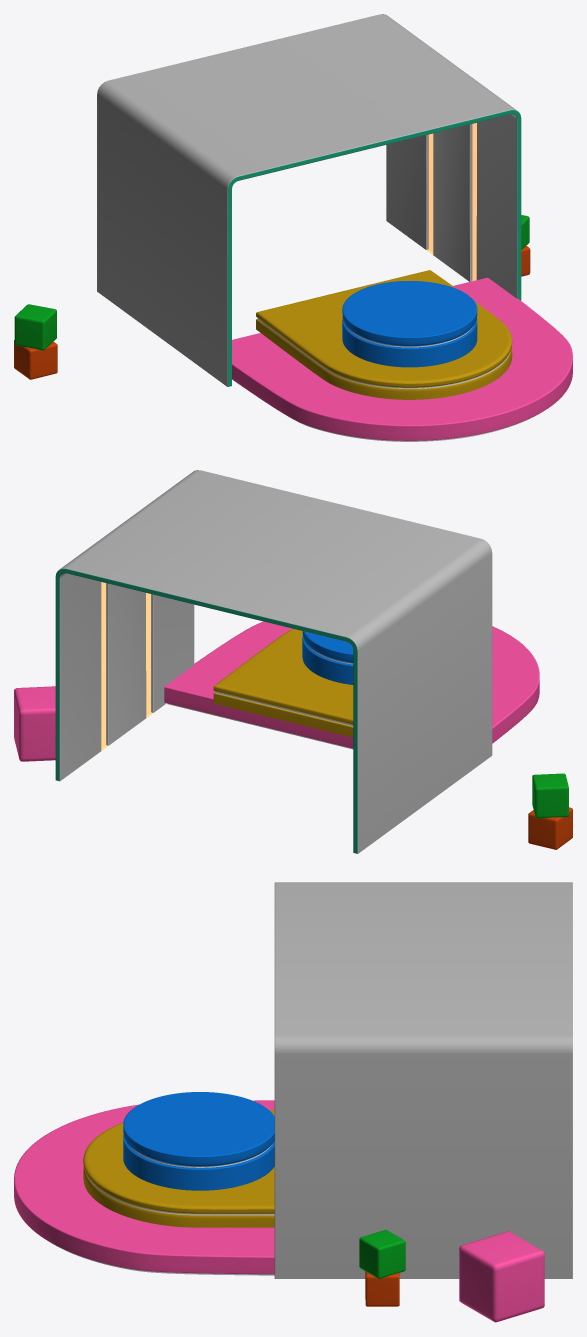
Rendered from WinnersPodium_sketchfab.fbx.
The picture shows the model from 3 angles, top to bottom: view 1: azimuth 30°, elevation 25°; view 2: azimuth 150°, elevation 25°; view 3: azimuth 270°, elevation 25°; orthographic projection. The views are drawn at different scales.
Visible parts, largest first — view 1: Object_27, Object_24, Object_21, Object_18, Object_28, Object_10, Object_29, Object_8, Object_22; view 2: Object_27, Object_24, Object_21, Object_28, Object_16, Object_18, Object_10, Object_29, Object_8; view 3: Object_27, Object_24, Object_18, Object_21, Object_16, Object_14, Object_12.
Part boxes in pixels (x1,y1,x2,y2): Object_27: (97,14,521,386); Object_24: (232,277,572,440); Object_21: (256,270,512,399); Object_18: (342,281,477,367); Object_28: (228,110,521,386); Object_10: (14,304,56,350); Object_29: (426,123,476,281); Object_8: (14,340,57,379); Object_22: (257,318,510,388); Object_27: (55,470,492,853); Object_24: (164,621,539,748); Object_21: (213,629,353,737); Object_28: (55,568,357,853); Object_16: (14,686,55,761); Object_18: (302,631,353,684); Object_10: (532,773,568,818); Object_29: (101,582,152,750); Object_8: (528,807,572,849); Object_27: (274,882,572,1278); Object_24: (14,1100,274,1274); Object_18: (123,1092,274,1190); Object_21: (83,1110,274,1227); Object_16: (459,1231,544,1322); Object_14: (359,1230,405,1278); Object_12: (365,1271,399,1306).
Size of the model in its own units: 845 by 334 by 702.
